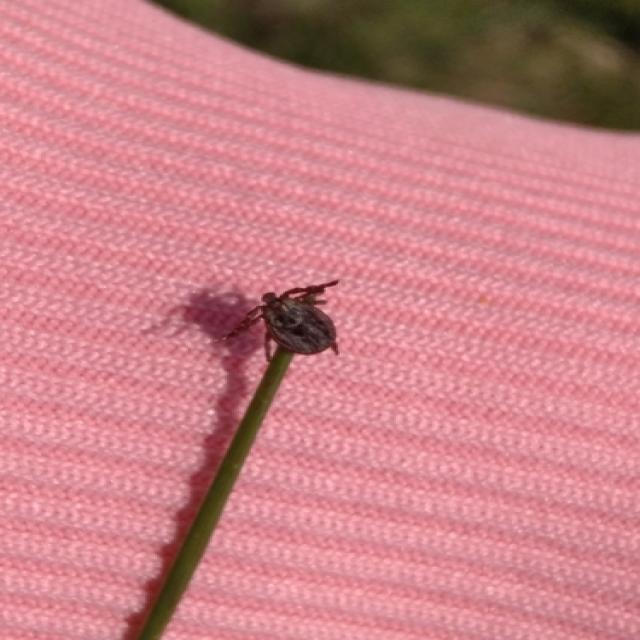Dermacentor Reticulatus-F: (229, 282, 338, 358)
